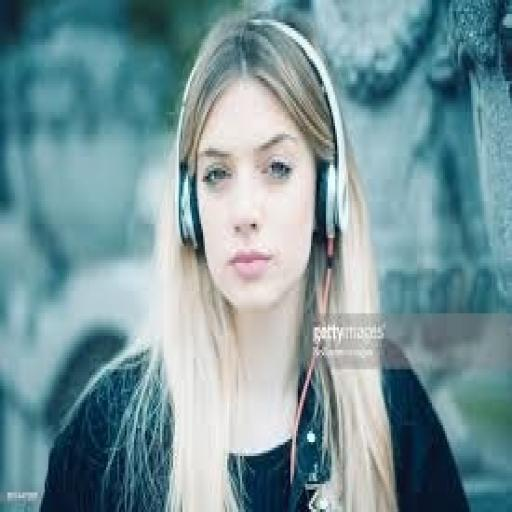listening_to_music: (37, 14, 473, 509)
